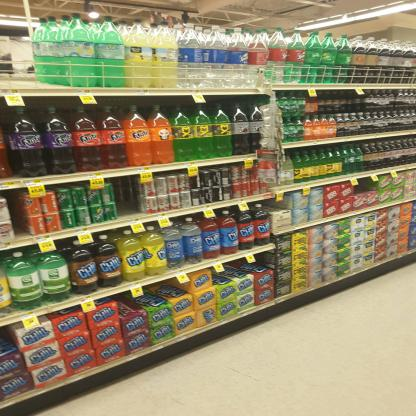Void: (114, 180, 138, 216), (8, 200, 28, 237), (254, 254, 274, 268), (229, 261, 246, 275), (2, 330, 11, 350), (358, 179, 374, 190), (150, 286, 179, 292), (270, 201, 288, 208)
